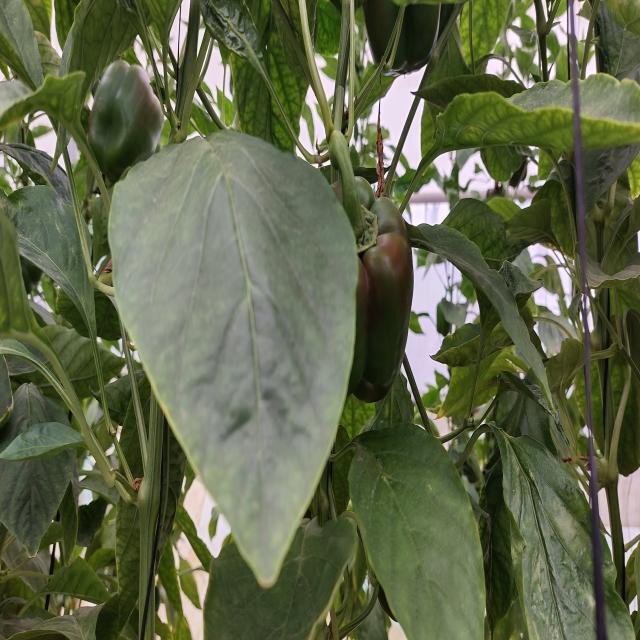Green--Not-ready-to-harvest: (321, 172, 421, 413), (90, 61, 167, 187)
